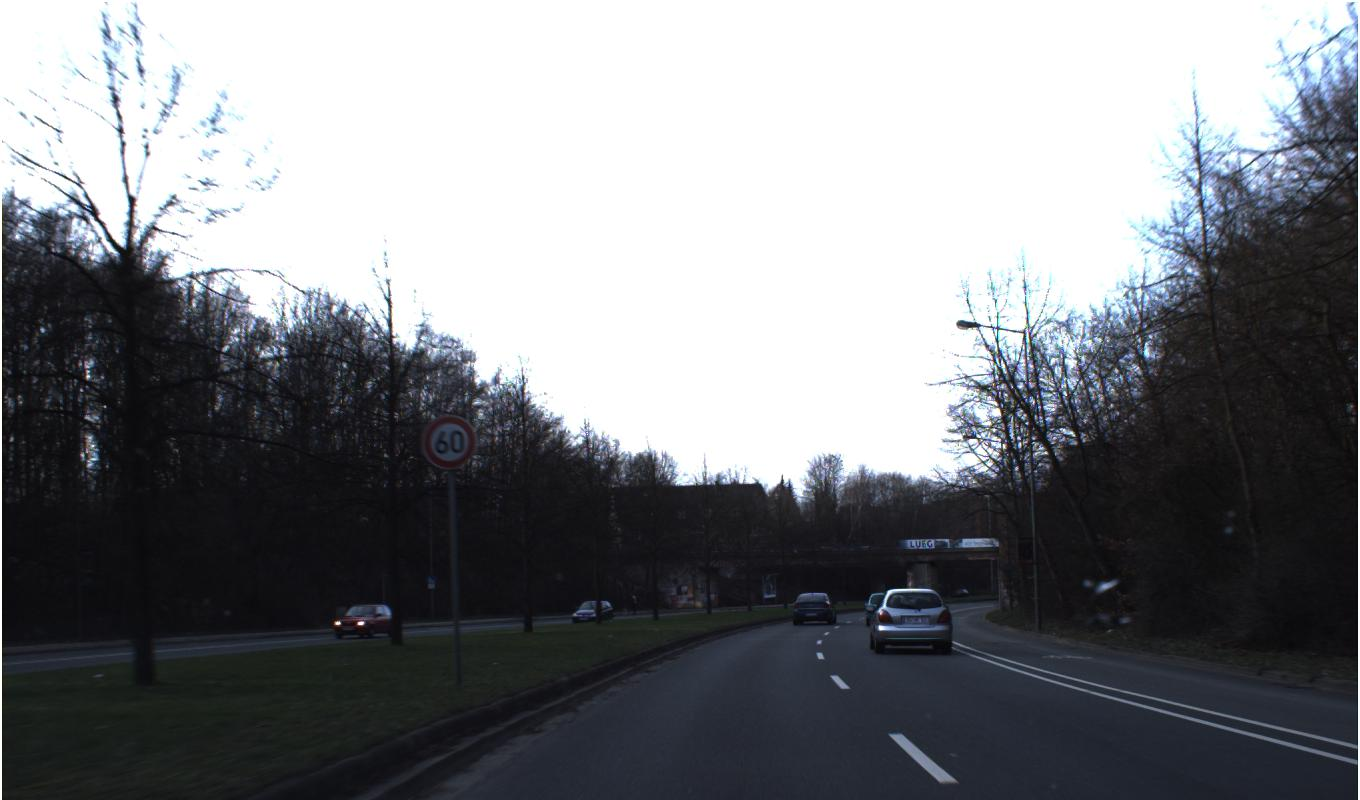prohibitory: (421, 414, 476, 470)
